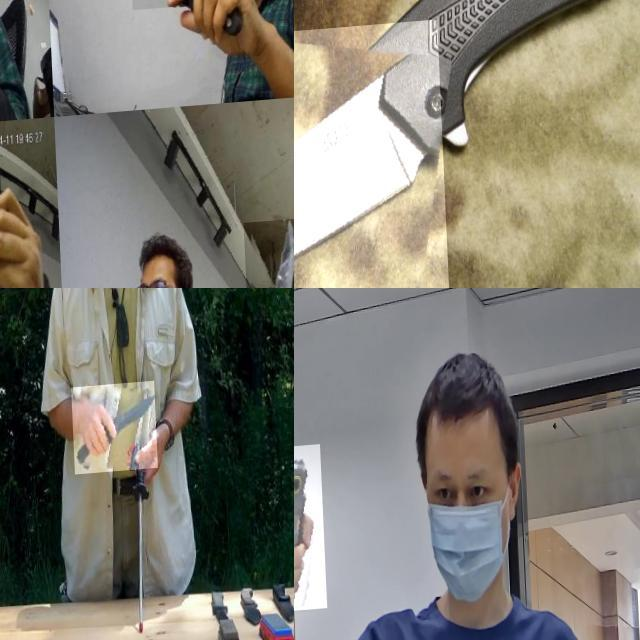-: (294, 25, 457, 288), (68, 386, 154, 478), (239, 228, 294, 288), (128, 0, 186, 28), (0, 0, 32, 39)
gun-knife-thesis - v11 Yolov5 augmented: (294, 449, 330, 617)
